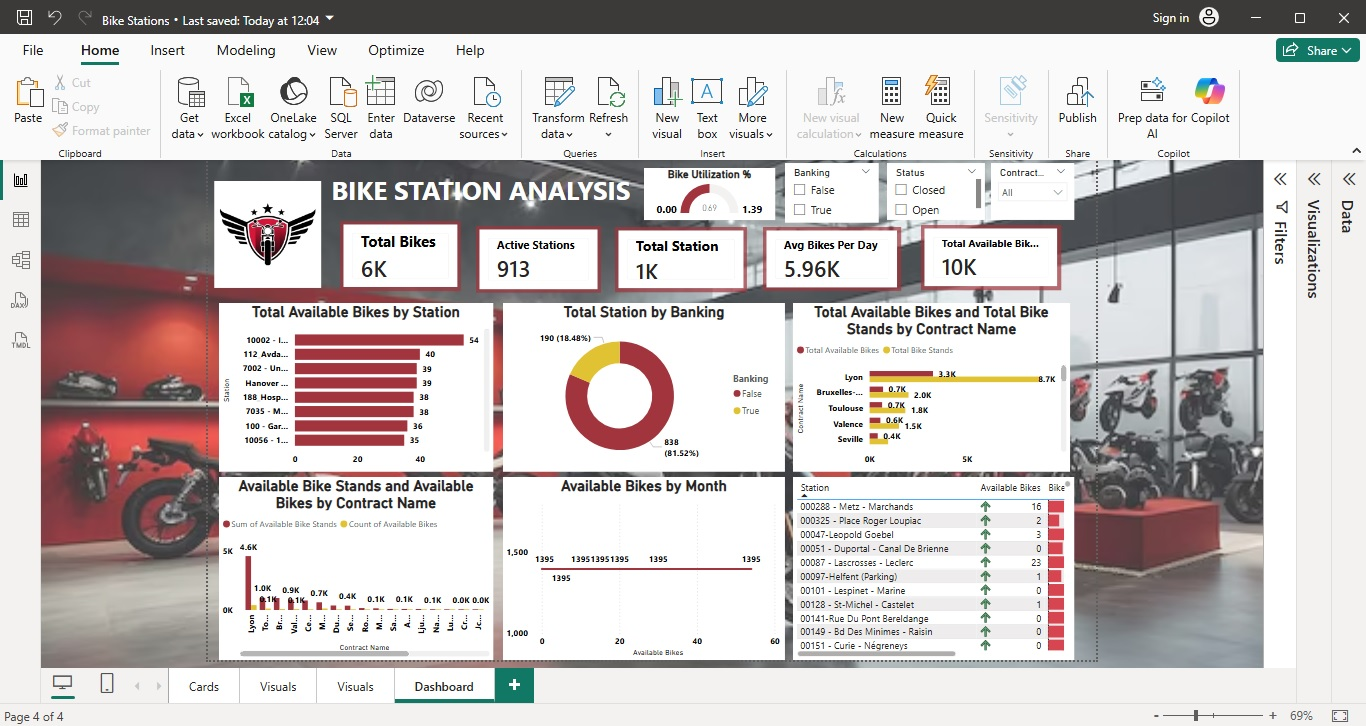

This screenshot's page, from the dashboard's own definition file:
{"tool":"powerbi","page":{"name":"Dashboard","canvas":[1280,720],"ordinal":3},"visuals":[{"type":"textbox","box":[172.8,13,462.2,63.4],"z":0},{"type":"image","box":[0,30.2,171.4,154.1],"z":1000},{"type":"cardVisual","fields":{"Data":["Measure.Total Bikes"]},"box":[190.1,87.8,174.2,100.8],"z":2000},{"type":"cardVisual","fields":{"Data":["Measure.Total Station"]},"box":[586.1,96.5,190.1,93.6],"z":3000},{"type":"cardVisual","fields":{"Data":["Measure.Total Available Bike Stands"]},"box":[1026.7,93.6,201.6,93.6],"z":4000},{"type":"cardVisual","fields":{"Data":["Measure.Active Stations"]},"box":[385.9,95,180,96.5],"z":5000},{"type":"clusteredBarChart","fields":{"Y":["Measure.Total Available Bikes"],"Category":["Bike_Stations.Station"]},"box":[15.8,205.9,394.6,243.4],"z":6000},{"type":"donutChart","fields":{"Category":["Bike_Stations.Banking"],"Y":["Measure.Total Station"]},"box":[424.8,205.9,406.1,243.4],"z":7000},{"type":"clusteredBarChart","fields":{"Category":["Bike_Stations.Contract Name"],"Y":["Measure.Total Available Bikes","Measure.Total Bike Stands"]},"box":[842.4,205.9,398.9,243.4],"z":8000},{"type":"clusteredColumnChart","title":"Available Bike Stands and Available Bikes by Contract Name","fields":{"Category":["Bike_Stations.Contract Name"],"Y":["Sum(Bike_Stations.Available Bike Stands)","CountNonNull(Bike_Stations.Available Bikes)"]},"box":[15.8,456.5,394.6,263.5],"z":9000},{"type":"lineChart","title":"Available Bikes by Month","fields":{"Category":["Bike_Stations.Available Bikes"],"Y":["CountNonNull(Dim_Date.Month Number)"]},"box":[424.8,456.5,406.1,263.5],"z":10000},{"type":"tableEx","fields":{"Values":["Bike_Stations.Station","Bike_Stations.Available Bikes","Bike_Stations.Bike Stands","Measure.Bike Utilization %","Bike_Stations.Contract Name"]},"box":[842.4,456.5,398.9,263.5],"z":11000},{"type":"gauge","fields":{"Y":["Measure.Bike Utilization %"]},"box":[627.8,11.5,188.6,74.9],"z":12000},{"type":"cardVisual","fields":{"Data":["Measure.Avg Bikes Per Day"]},"box":[799.2,96.5,198.7,92.2],"z":13000},{"type":"slicer","fields":{"Values":["Bike_Stations.Banking"]},"box":[830.9,4.3,135.4,86.4],"z":14000},{"type":"slicer","fields":{"Values":["Bike_Stations.Status"]},"box":[977.8,4.3,141.1,82.1],"z":15000},{"type":"slicer","fields":{"Values":["Bike_Stations.Contract Name"]},"box":[1127.5,4.3,119.5,82.1],"z":16000}]}

Visuals, with their boxes on the page's 1280x720 design canvas (x1, y1, x2, y2). These are canvas units, not pixel positions in the 1366x726 screenshot, which may show the page scaled, cropped or inside an application window:
textbox: (x1=173, y1=13, x2=635, y2=76)
image: (x1=0, y1=30, x2=171, y2=184)
cardVisual - Measure.Total Bikes: (x1=190, y1=88, x2=364, y2=189)
cardVisual - Measure.Total Station: (x1=586, y1=96, x2=776, y2=190)
cardVisual - Measure.Total Available Bike Stands: (x1=1027, y1=94, x2=1228, y2=187)
cardVisual - Measure.Active Stations: (x1=386, y1=95, x2=566, y2=192)
clusteredBarChart - Measure.Total Available Bikes x Bike_Stations.Station: (x1=16, y1=206, x2=410, y2=449)
donutChart - Bike_Stations.Banking x Measure.Total Station: (x1=425, y1=206, x2=831, y2=449)
clusteredBarChart - Bike_Stations.Contract Name x Measure.Total Available Bikes: (x1=842, y1=206, x2=1241, y2=449)
"Available Bike Stands and Available Bikes by Contract Name" clusteredColumnChart: (x1=16, y1=456, x2=410, y2=720)
"Available Bikes by Month" lineChart: (x1=425, y1=456, x2=831, y2=720)
tableEx - Bike_Stations.Station x Bike_Stations.Available Bikes: (x1=842, y1=456, x2=1241, y2=720)
gauge - Measure.Bike Utilization %: (x1=628, y1=12, x2=816, y2=86)
cardVisual - Measure.Avg Bikes Per Day: (x1=799, y1=96, x2=998, y2=189)
slicer - Bike_Stations.Banking: (x1=831, y1=4, x2=966, y2=91)
slicer - Bike_Stations.Status: (x1=978, y1=4, x2=1119, y2=86)
slicer - Bike_Stations.Contract Name: (x1=1128, y1=4, x2=1247, y2=86)
